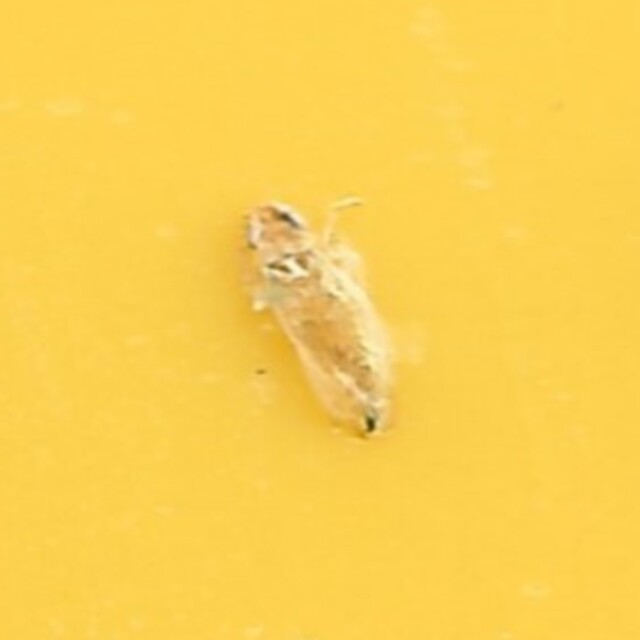Hemiptera: (227, 194, 413, 446)
